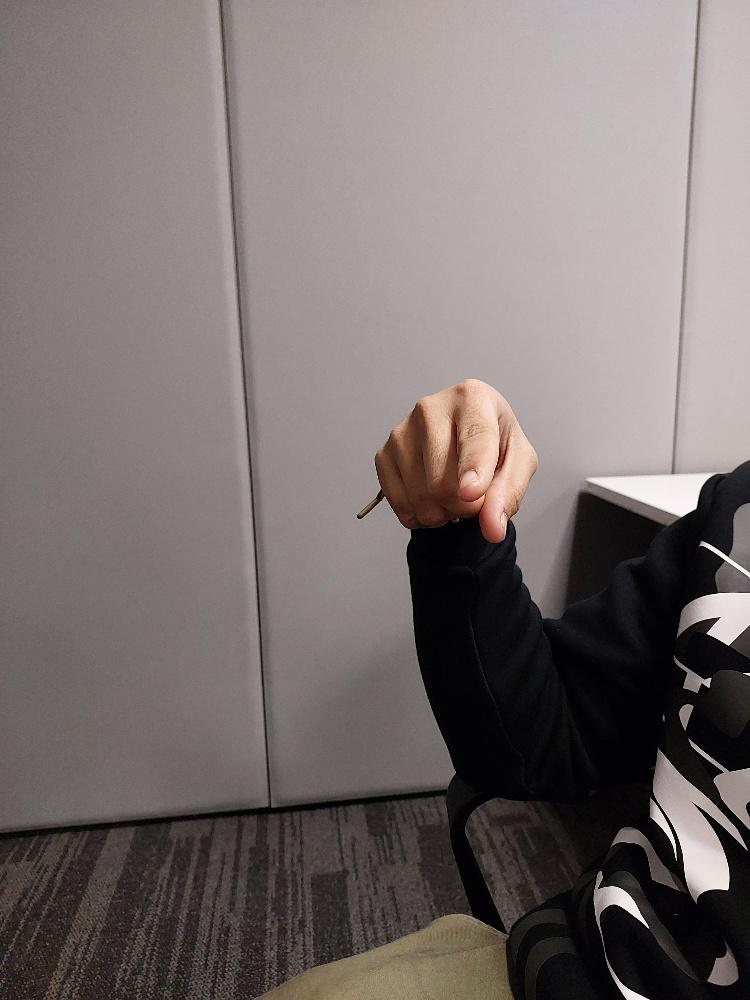z: (370, 375, 541, 543)
